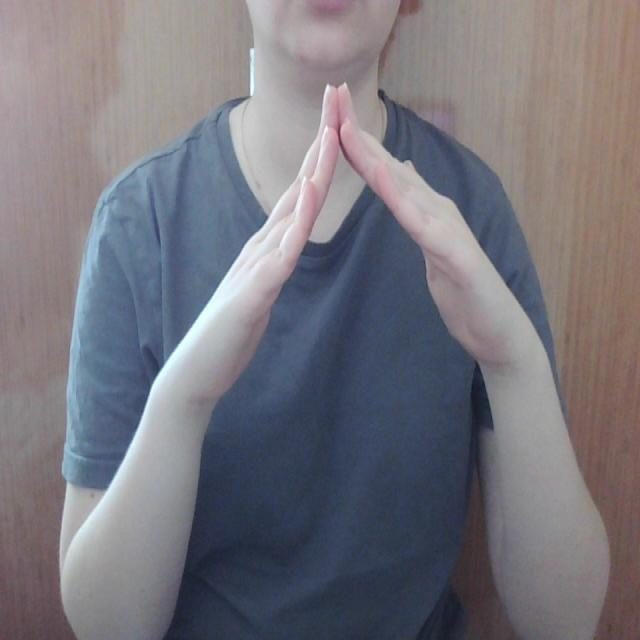Ev: (184, 74, 536, 389)
